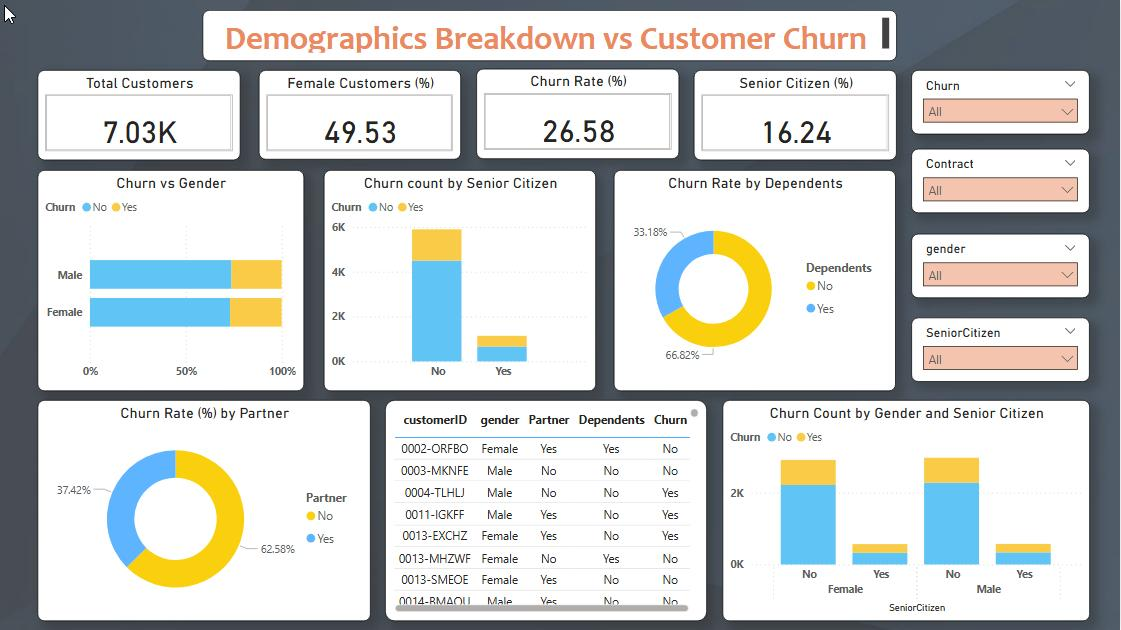

Layout of this report page (visuals, bound fields, positions):
{"tool":"powerbi","page":{"name":"Page 2","canvas":[1280,720],"ordinal":1},"visuals":[{"type":"cardVisual","title":"Total Customers","fields":{"Data":["CountNonNull(telecom_churn_cleaned.customerID)"]},"box":[43.1,80.6,232.1,102.9],"z":0},{"type":"cardVisual","title":"Female Customers (%)","fields":{"Data":["Table.Female Customers (%)"]},"box":[296.2,79.5,231,102.6],"z":1000},{"type":"cardVisual","title":"Churn Rate (%)","fields":{"Data":["Table.Churn Rate (%)"]},"box":[544.9,79.2,232.1,102.9],"z":2000},{"type":"cardVisual","title":"Senior Citizen (%)","fields":{"Data":["Table.Senior Citizen (%)"]},"box":[792.4,80.6,232.1,102.9],"z":3000},{"type":"slicer","fields":{"Values":["telecom_churn_cleaned.Churn"]},"box":[1041.2,80.6,204.3,73.7],"z":4000},{"type":"slicer","fields":{"Values":["telecom_churn_cleaned.Contract"]},"box":[1041.2,169.6,204.3,73.7],"z":5000},{"type":"slicer","fields":{"Values":["telecom_churn_cleaned.gender"]},"box":[1041.2,266.9,204.3,73.7],"z":6000},{"type":"slicer","fields":{"Values":["telecom_churn_cleaned.SeniorCitizen"]},"box":[1041.2,362.8,204.3,73.7],"z":7000},{"type":"textbox","box":[230.8,11.1,793.7,58.4],"z":7001},{"type":"hundredPercentStackedBarChart","title":"Churn vs Gender","fields":{"Category":["telecom_churn_cleaned.gender"],"Series":["telecom_churn_cleaned.Churn"],"Y":["CountNonNull(telecom_churn_cleaned.customerID)"]},"box":[43.1,194.6,304.4,253],"z":7002},{"type":"columnChart","title":"Churn count by Senior Citizen","fields":{"Y":["CountNonNull(telecom_churn_cleaned.customerID)"],"Series":["telecom_churn_cleaned.Churn"],"Category":["telecom_churn_cleaned.SeniorCitizen"]},"box":[369.8,194.6,311.4,253],"z":7003},{"type":"donutChart","fields":{"Category":["telecom_churn_cleaned.Partner"],"Y":["Table.Churn Rate (%)"]},"box":[43.1,457.3,380.9,253],"z":7004},{"type":"donutChart","title":"Churn Rate by Dependents","fields":{"Category":["telecom_churn_cleaned.Dependents"],"Y":["Table.Churn Rate (%)"]},"box":[702,194.6,322.5,253],"z":7005},{"type":"tableEx","fields":{"Values":["telecom_churn_cleaned.customerID","telecom_churn_cleaned.gender","telecom_churn_cleaned.Partner","telecom_churn_cleaned.Dependents","telecom_churn_cleaned.Churn"]},"box":[440.7,457.3,368.4,253],"z":7006},{"type":"columnChart","title":"Churn Count by Gender and Senior Citizen","fields":{"Category":["telecom_churn_cleaned.gender","telecom_churn_cleaned.SeniorCitizen"],"Y":["CountNonNull(telecom_churn_cleaned.customerID)"],"Series":["telecom_churn_cleaned.Churn"]},"box":[825.7,457.3,419.8,253],"z":7007}]}

Visuals, with their boxes in screenshot pixels (x1, y1, x2, y2), scaled from the page's 1280x720 canvas onto the 1121x630 screenshot:
"Total Customers" cardVisual: {"x1": 38, "y1": 71, "x2": 241, "y2": 161}
"Female Customers (%)" cardVisual: {"x1": 259, "y1": 70, "x2": 462, "y2": 159}
"Churn Rate (%)" cardVisual: {"x1": 477, "y1": 69, "x2": 680, "y2": 159}
"Senior Citizen (%)" cardVisual: {"x1": 694, "y1": 71, "x2": 897, "y2": 161}
slicer - telecom_churn_cleaned.Churn: {"x1": 912, "y1": 71, "x2": 1091, "y2": 135}
slicer - telecom_churn_cleaned.Contract: {"x1": 912, "y1": 148, "x2": 1091, "y2": 213}
slicer - telecom_churn_cleaned.gender: {"x1": 912, "y1": 234, "x2": 1091, "y2": 298}
slicer - telecom_churn_cleaned.SeniorCitizen: {"x1": 912, "y1": 317, "x2": 1091, "y2": 382}
textbox: {"x1": 202, "y1": 10, "x2": 897, "y2": 61}
"Churn vs Gender" hundredPercentStackedBarChart: {"x1": 38, "y1": 170, "x2": 304, "y2": 392}
"Churn count by Senior Citizen" columnChart: {"x1": 324, "y1": 170, "x2": 597, "y2": 392}
donutChart - telecom_churn_cleaned.Partner x Table.Churn Rate (%): {"x1": 38, "y1": 400, "x2": 371, "y2": 622}
"Churn Rate by Dependents" donutChart: {"x1": 615, "y1": 170, "x2": 897, "y2": 392}
tableEx - telecom_churn_cleaned.customerID x telecom_churn_cleaned.gender: {"x1": 386, "y1": 400, "x2": 709, "y2": 622}
"Churn Count by Gender and Senior Citizen" columnChart: {"x1": 723, "y1": 400, "x2": 1091, "y2": 622}
